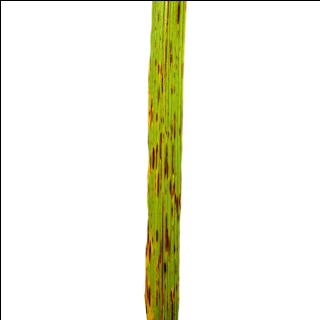Bercak-Cokelat-Sempit: (144, 0, 185, 320)
